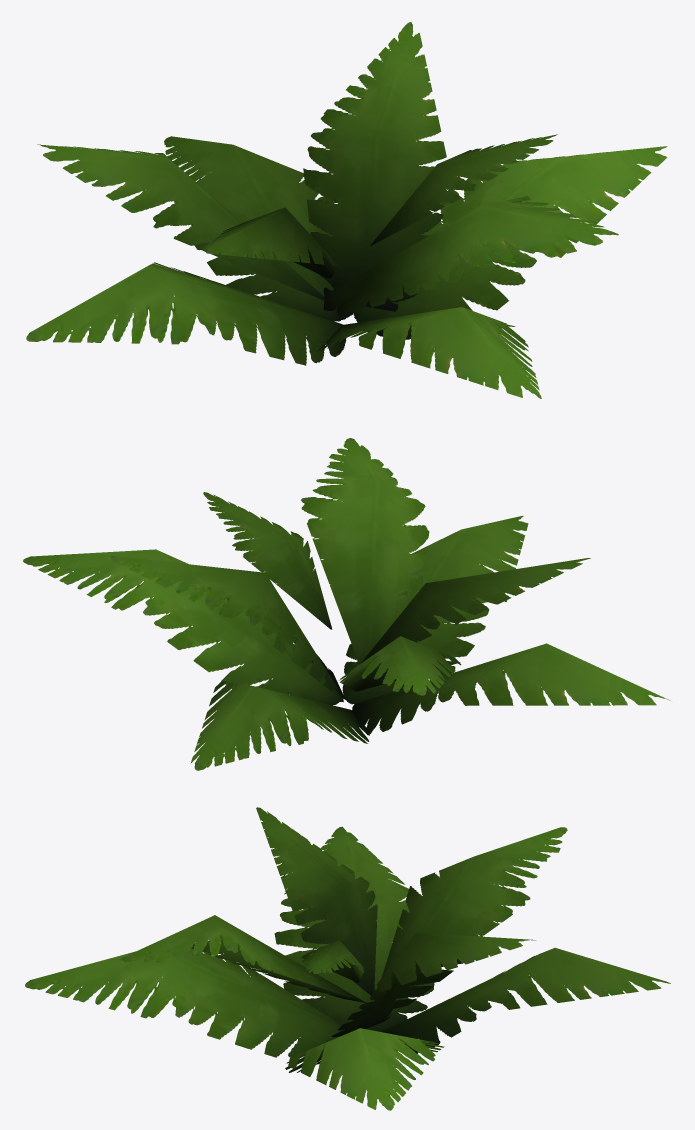
File: Fern_1.low.gltf
3 views of the same model, one above another, from view 1: azimuth 30°, elevation 25°; view 2: azimuth 150°, elevation 25°; view 3: azimuth 270°, elevation 25° (orthographic). The views are drawn at different scales.
Visible parts, largest first — view 1: Fern_1; view 2: Fern_1; view 3: Fern_1.
Boxes of the visible parts, <box> form: Fern_1: <box>26,22,667,398</box>; Fern_1: <box>23,438,670,770</box>; Fern_1: <box>25,807,670,1110</box>.
Bounding box in the file's own units: 2.83 × 0.8404 × 2.65.
1 material, 1 textured.
